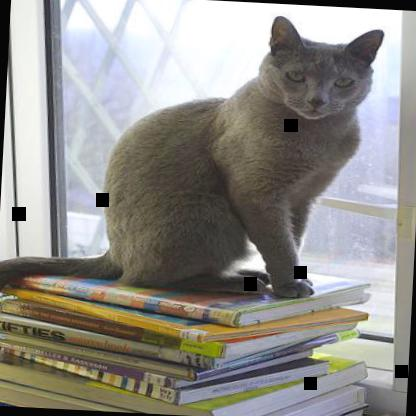cat: (0, 0, 387, 328)
